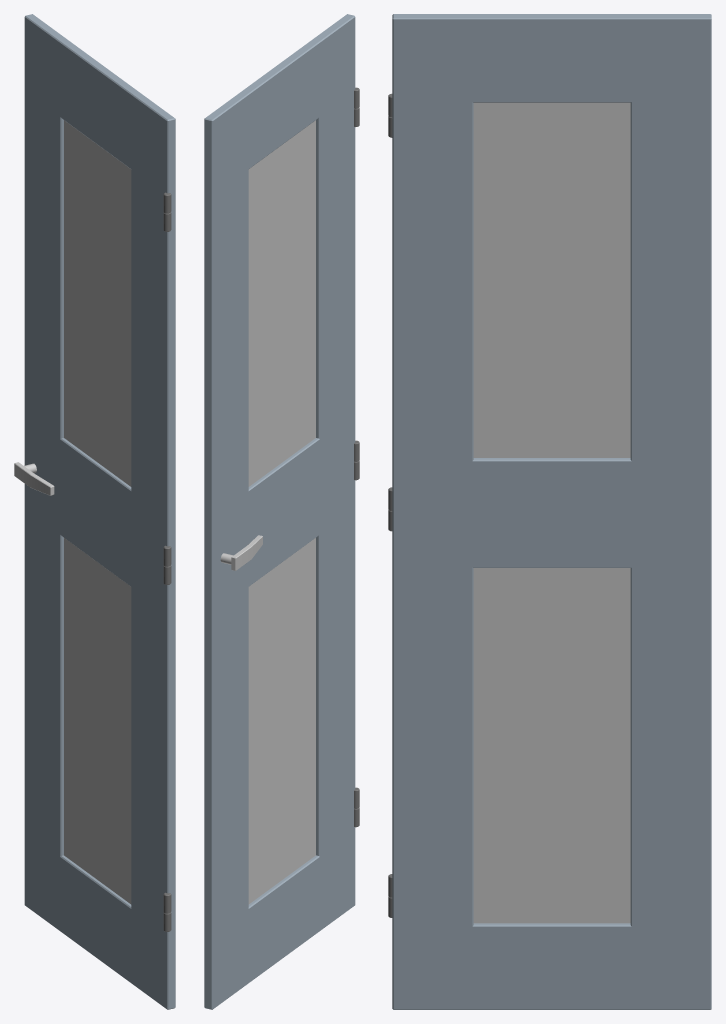
The model's file is Cupboard door right.fbx.
The picture shows the model from 3 angles, left to right: view 1: azimuth 30°, elevation 25°; view 2: azimuth 150°, elevation 25°; view 3: azimuth 270°, elevation 25°; orthographic projection. The views are drawn at different scales.
Parts seen in each view (by area): view 1: Cupboard door right; view 2: Cupboard door right; view 3: Cupboard door right.
Part boxes in pixels (x1,y1,x2,y2): Cupboard door right: (14, 14, 175, 1009); Cupboard door right: (204, 14, 359, 1009); Cupboard door right: (388, 14, 711, 1009).
Size of the model in its own units: 5.77 by 192 by 56.75.
